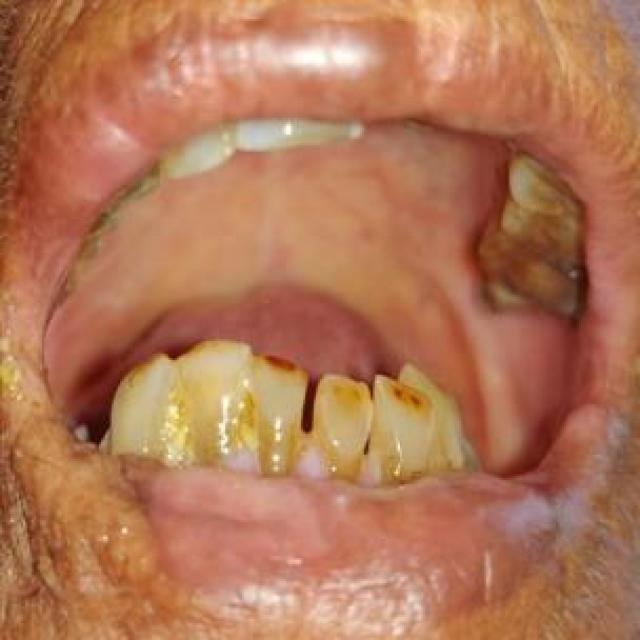processing_area: (41, 125, 584, 475)
